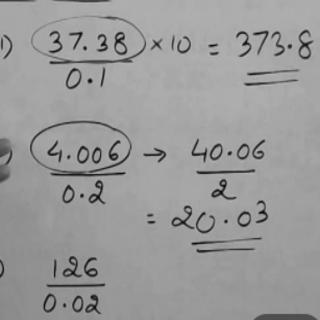.: (225, 147, 234, 157), (285, 40, 293, 50), (63, 152, 73, 160), (77, 191, 86, 199), (86, 76, 94, 85), (221, 216, 229, 225), (81, 43, 88, 51), (61, 301, 68, 309)
0: (195, 211, 216, 235), (64, 66, 82, 90), (41, 292, 58, 314), (176, 34, 192, 55), (60, 184, 76, 204), (75, 144, 90, 165), (208, 143, 224, 162), (236, 210, 253, 227), (71, 291, 84, 313), (236, 142, 251, 161), (91, 144, 103, 165)
1: (98, 65, 107, 89), (51, 258, 58, 279), (168, 33, 176, 51)
2: (209, 177, 240, 201), (170, 204, 195, 231), (87, 179, 109, 206), (61, 255, 83, 280), (85, 291, 103, 315)
3: (234, 29, 253, 58), (46, 29, 64, 54), (270, 30, 286, 57), (255, 198, 269, 225), (95, 30, 109, 53)
4: (45, 137, 65, 164), (189, 138, 208, 165)
6: (81, 256, 102, 278), (251, 137, 267, 160), (107, 139, 122, 161)
7: (251, 29, 269, 56), (67, 29, 83, 50)
8: (296, 29, 318, 61), (112, 30, 129, 55)
